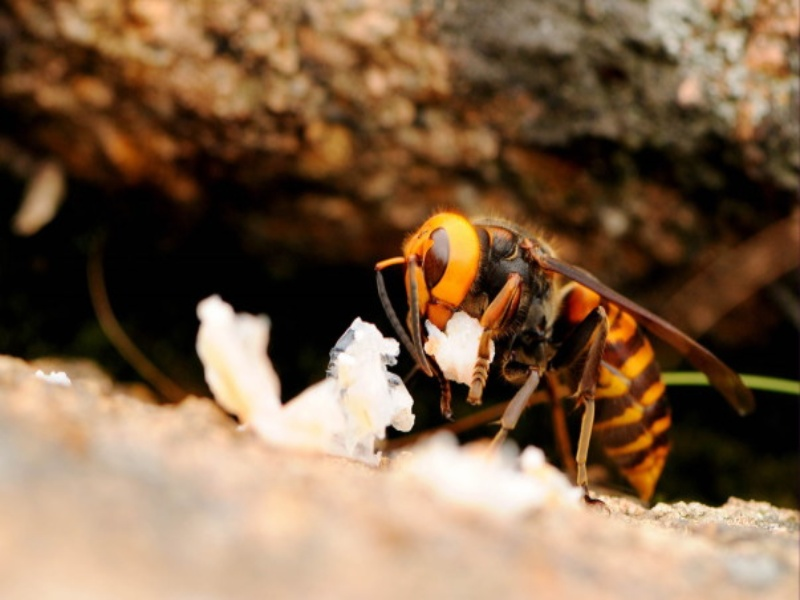asian_giant_hornet: (377, 186, 691, 513)
